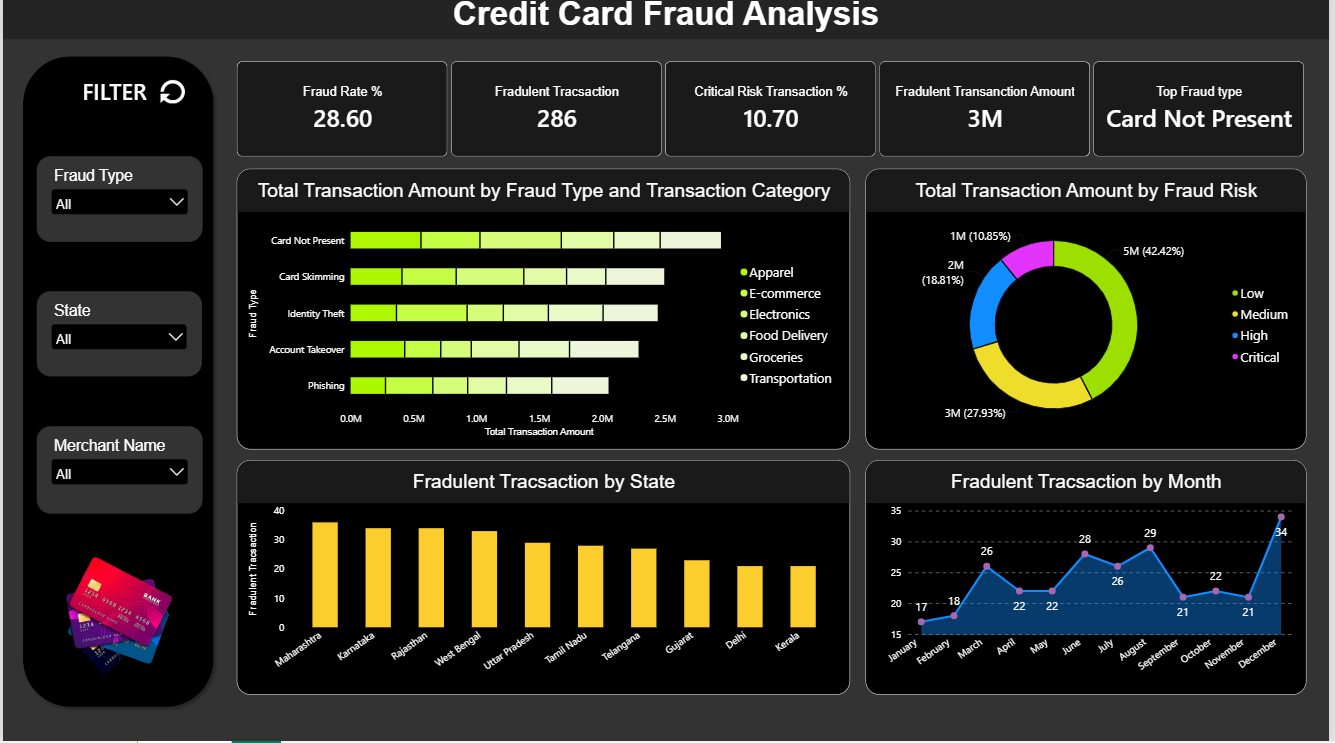

Layout of this report page (visuals, bound fields, positions):
{"tool":"powerbi","page":{"name":"Page 1","canvas":[1920,1080],"ordinal":0},"visuals":[{"type":"shape","box":[20,80,294,960],"z":0},{"type":"barChart","fields":{"Category":["Fraud data.Fraud Type"],"Series":["Fraud data.Transaction Category"],"Y":["Customer Measures.Total Transaction Amount"]},"box":[338,252,888,406],"z":1000},{"type":"donutChart","fields":{"Category":["Fraud data.Fraud Risk"],"Y":["Customer Measures.Total Transaction Amount"]},"box":[1248,252,638,406],"z":2000},{"type":"columnChart","fields":{"Category":["Fraud data.State"],"Y":["Customer Measures.Fradulent Tracsaction"]},"box":[338,674,888,340],"z":3000},{"type":"lineChart","fields":{"Category":["Fraud data.Transaction Date.Variation.Date Hierarchy.Month"],"Y":["Customer Measures.Fradulent Tracsaction"]},"box":[1248,674,638,340],"z":4000},{"type":"slicer","title":"Fraud Type","fields":{"Values":["Fraud data.Fraud Type"]},"box":[48,234,240,124],"z":5000},{"type":"slicer","fields":{"Values":["Fraud data.State"]},"box":[48,428,238.9,123.1],"z":6000},{"type":"slicer","fields":{"Values":["Fraud data.Merchant Name"]},"box":[48,624,240,126],"z":7000},{"type":"image","box":[43.4,770.9,249.7,255.2],"z":8000},{"type":"textbox","box":[0,0,1920,64],"z":9000},{"type":"image","box":[220,116,50,54],"z":10000},{"type":"cardVisual","fields":{"Data":["Customer Measures.Fraud Rate %","Customer Measures.Fradulent Tracsaction","Customer Measures.Critical Risk Transaction %","Customer Measures.Fradulent Transanction Amount","Customer Measures.Top Fraud type"]},"box":[338,96,1548,138],"z":11000}]}

Visuals, with their boxes in screenshot pixels (x1, y1, x2, y2), scaled from the page's 1920x1080 canvas onto the 1335x743 screenshot:
shape: {"x1": 14, "y1": 55, "x2": 218, "y2": 715}
barChart - Fraud data.Fraud Type x Fraud data.Transaction Category: {"x1": 235, "y1": 173, "x2": 852, "y2": 453}
donutChart - Fraud data.Fraud Risk x Customer Measures.Total Transaction Amount: {"x1": 868, "y1": 173, "x2": 1311, "y2": 453}
columnChart - Fraud data.State x Customer Measures.Fradulent Tracsaction: {"x1": 235, "y1": 464, "x2": 852, "y2": 698}
lineChart - Fraud data.Transaction Date.Variation.Date Hierarchy.Month x Customer Measures.Fradulent Tracsaction: {"x1": 868, "y1": 464, "x2": 1311, "y2": 698}
"Fraud Type" slicer: {"x1": 33, "y1": 161, "x2": 200, "y2": 246}
slicer - Fraud data.State: {"x1": 33, "y1": 294, "x2": 199, "y2": 379}
slicer - Fraud data.Merchant Name: {"x1": 33, "y1": 429, "x2": 200, "y2": 516}
image: {"x1": 30, "y1": 530, "x2": 204, "y2": 706}
textbox: {"x1": 0, "y1": 0, "x2": 1334, "y2": 44}
image: {"x1": 153, "y1": 80, "x2": 188, "y2": 117}
cardVisual - Customer Measures.Fraud Rate % x Customer Measures.Fradulent Tracsaction: {"x1": 235, "y1": 66, "x2": 1311, "y2": 161}
